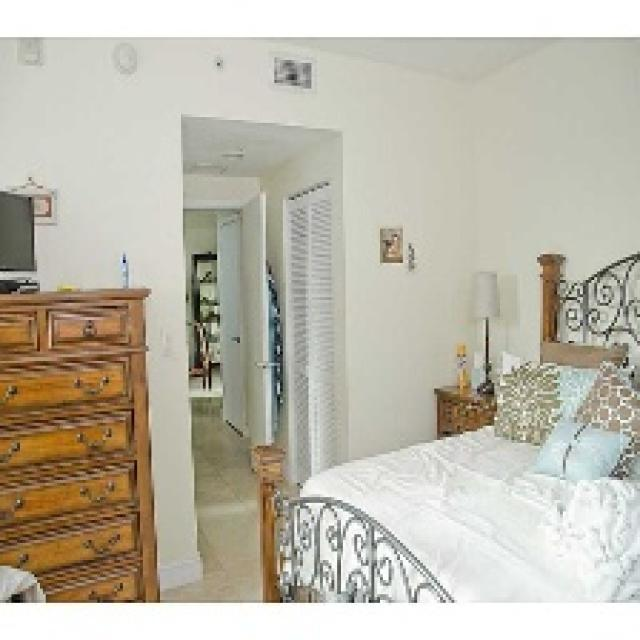Bed: (254, 246, 637, 603)
